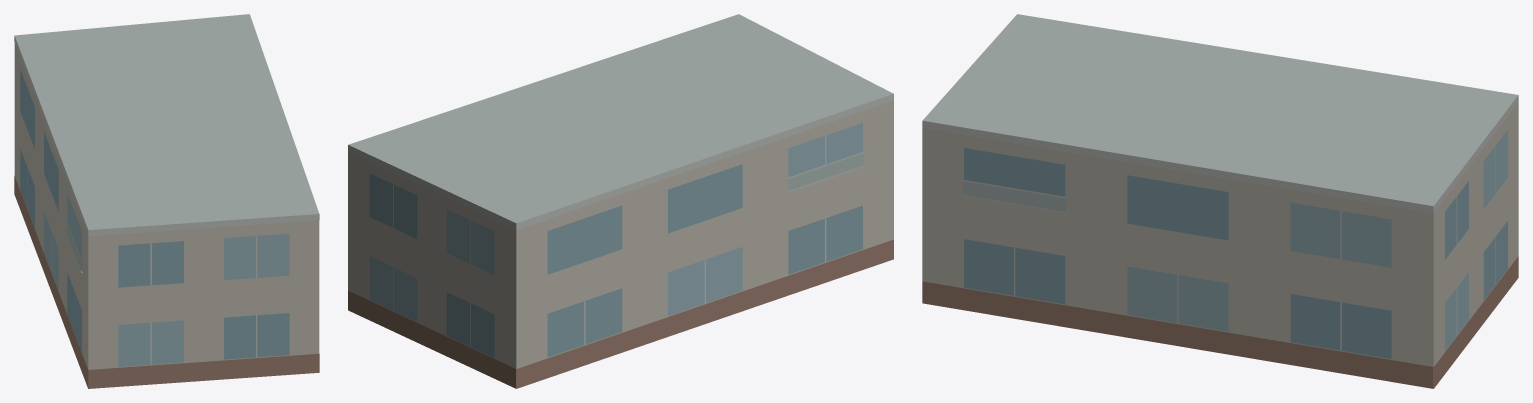
File: survey-upis-33029167.glb
3 views of the same model, side by side, from view 1: azimuth 30°, elevation 25°; view 2: azimuth 150°, elevation 25°; view 3: azimuth 270°, elevation 25° (orthographic). The views are drawn at different scales.
Parts seen in each view (by area): view 1: survey-upis-33029167.tmp; view 2: survey-upis-33029167.tmp; view 3: survey-upis-33029167.tmp.
Part boxes in pixels (box(x1,y1,x2,y2)): survey-upis-33029167.tmp: box(14, 14, 319, 388); survey-upis-33029167.tmp: box(348, 14, 893, 388); survey-upis-33029167.tmp: box(922, 14, 1518, 388).
Bounding box in the file's own units: 13.78 × 6.1 × 18.06.
